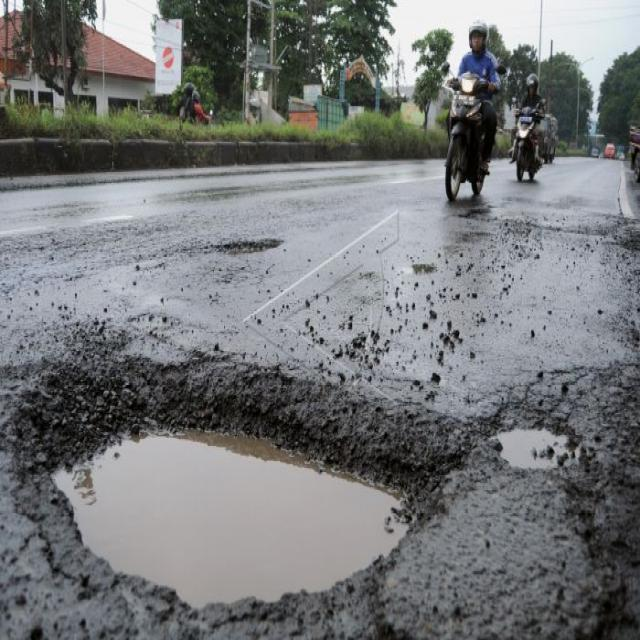potholes: (39, 353, 424, 620)
